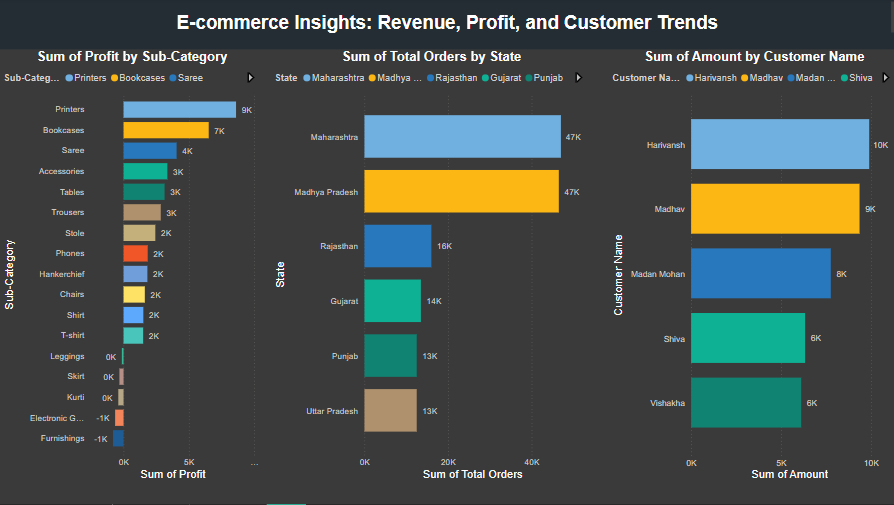

The page's visual inventory and layout, read from the dashboard file:
{"tool":"powerbi","page":{"name":"Page 2","canvas":[1280,720],"ordinal":1},"visuals":[{"type":"barChart","title":"Sum of Profit by Sub-Category","fields":{"Category":["Details Dataset.Sub-Category"],"Y":["Details Dataset.Profit"],"Series":["Details Dataset.Sub-Category"]},"box":[0,72.3,375.9,618.8],"z":0},{"type":"barChart","title":"Sum of Total Orders by State","fields":{"Category":["Orders Dataset.State"],"Y":["Orders Dataset.Total Orders"],"Series":["Orders Dataset.State"]},"box":[386,72.3,456.9,618.8],"z":1000},{"type":"barChart","title":"Sum of Amount by Customer Name","fields":{"Category":["Orders Dataset.CustomerName"],"Y":["Details Dataset.Amount"],"Series":["Orders Dataset.CustomerName"]},"box":[866,72.3,413.5,618.8],"z":2000},{"type":"textbox","box":[0,0,1280.6,72.6],"z":3000}]}

Visuals, with their boxes in screenshot pixels (x1, y1, x2, y2), scaled from the page's 1280x720 canvas onto the 894x505 screenshot:
"Sum of Profit by Sub-Category" barChart: {"x1": 0, "y1": 51, "x2": 263, "y2": 485}
"Sum of Total Orders by State" barChart: {"x1": 270, "y1": 51, "x2": 589, "y2": 485}
"Sum of Amount by Customer Name" barChart: {"x1": 605, "y1": 51, "x2": 893, "y2": 485}
textbox: {"x1": 0, "y1": 0, "x2": 893, "y2": 51}
